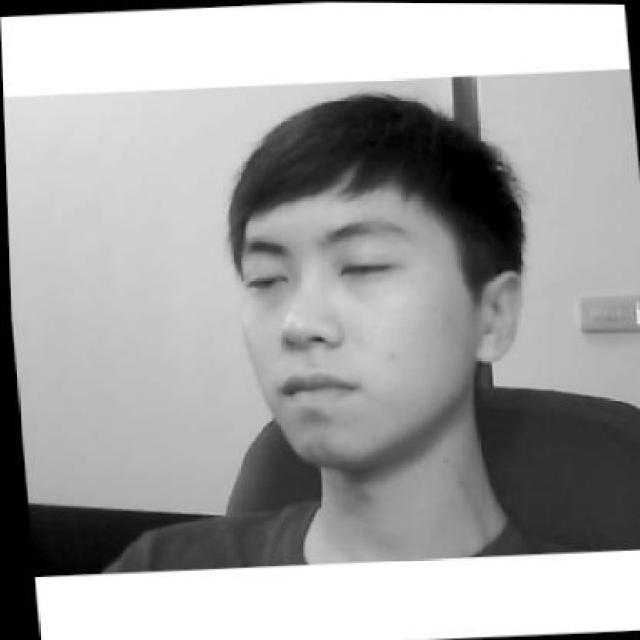inattentif: (213, 84, 532, 476)
